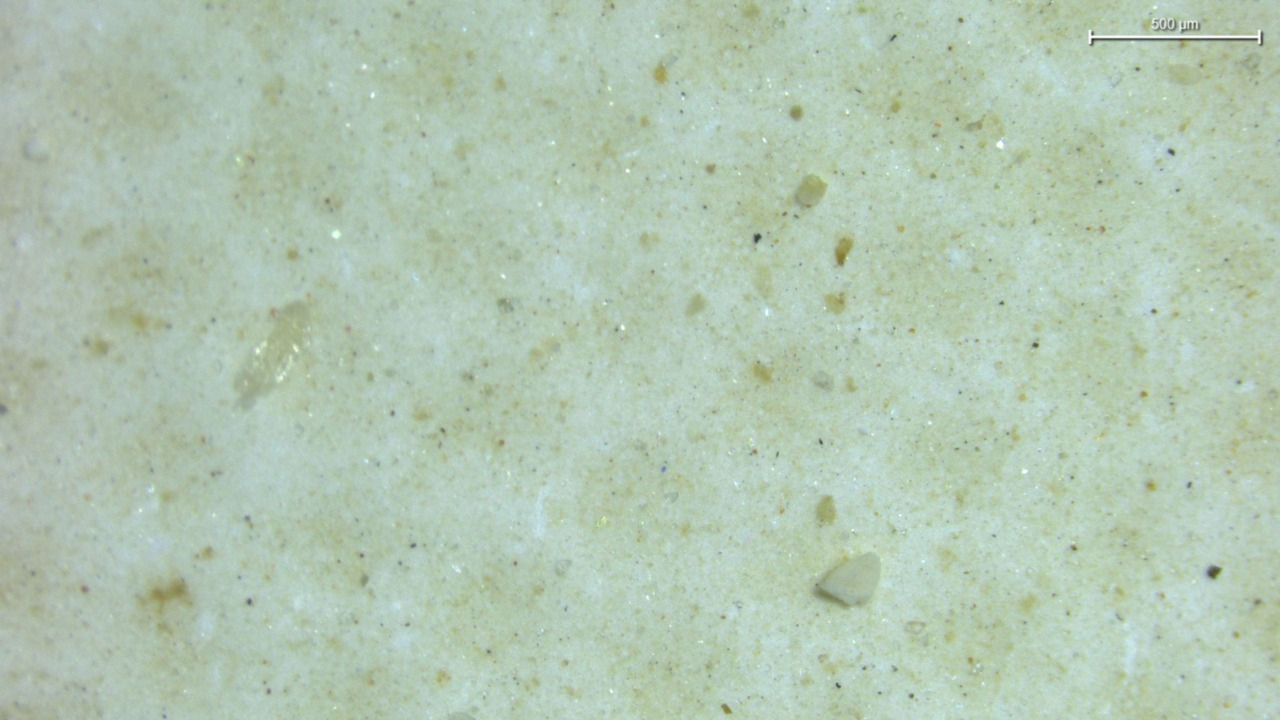microplastic_fragment: (235, 301, 310, 407), (816, 552, 881, 605), (796, 174, 827, 207)
